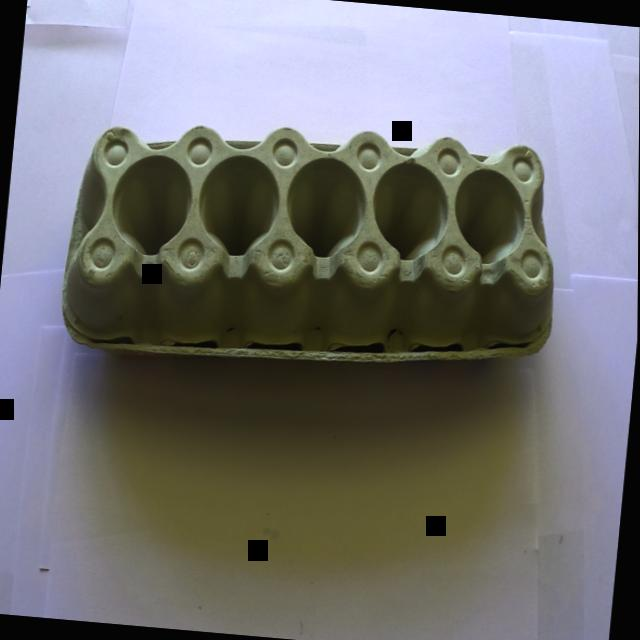Egg: (41, 81, 574, 413)
